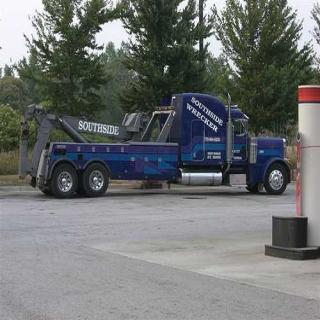Towing_truck: (21, 90, 292, 200)
